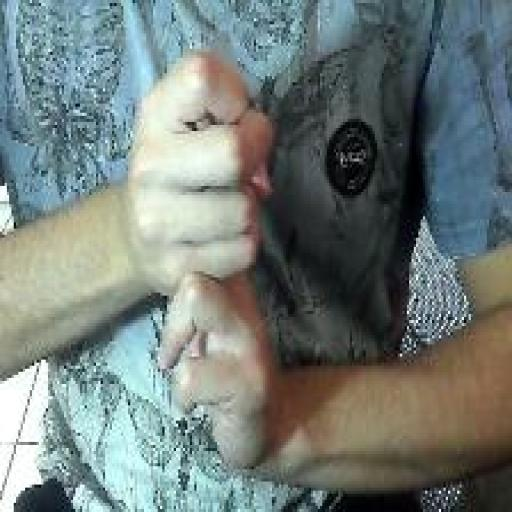Ne -rat-: (125, 46, 282, 475)
